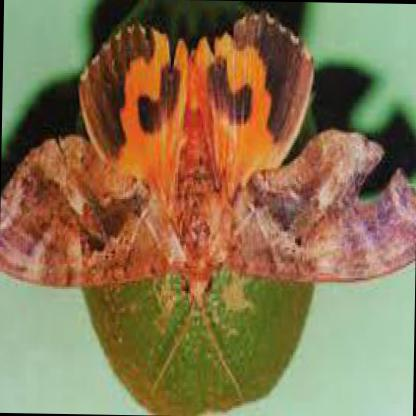fruit sucking moth: (0, 11, 415, 307)
